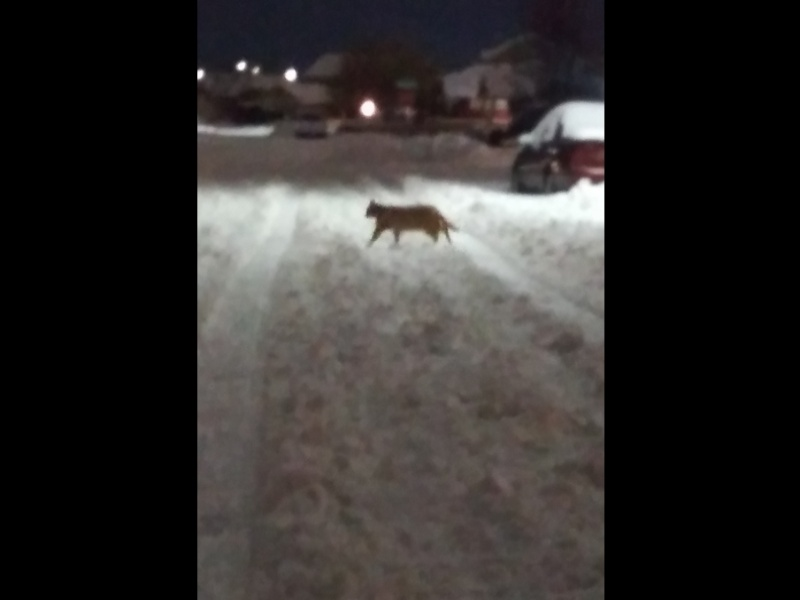cat: (363, 198, 460, 251)
